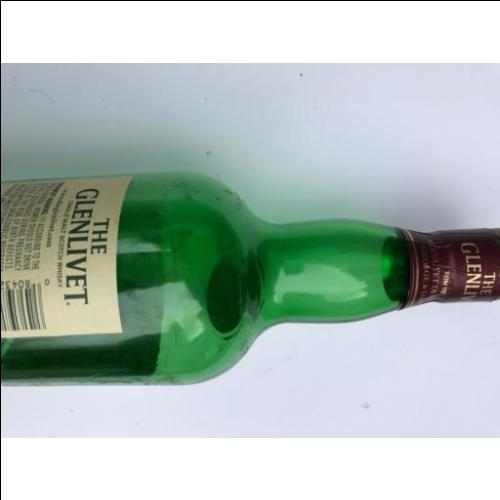glass: (3, 180, 500, 385)
